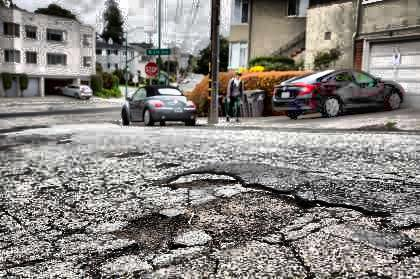pothole: (195, 183, 302, 242), (109, 210, 201, 251), (165, 170, 244, 190)
